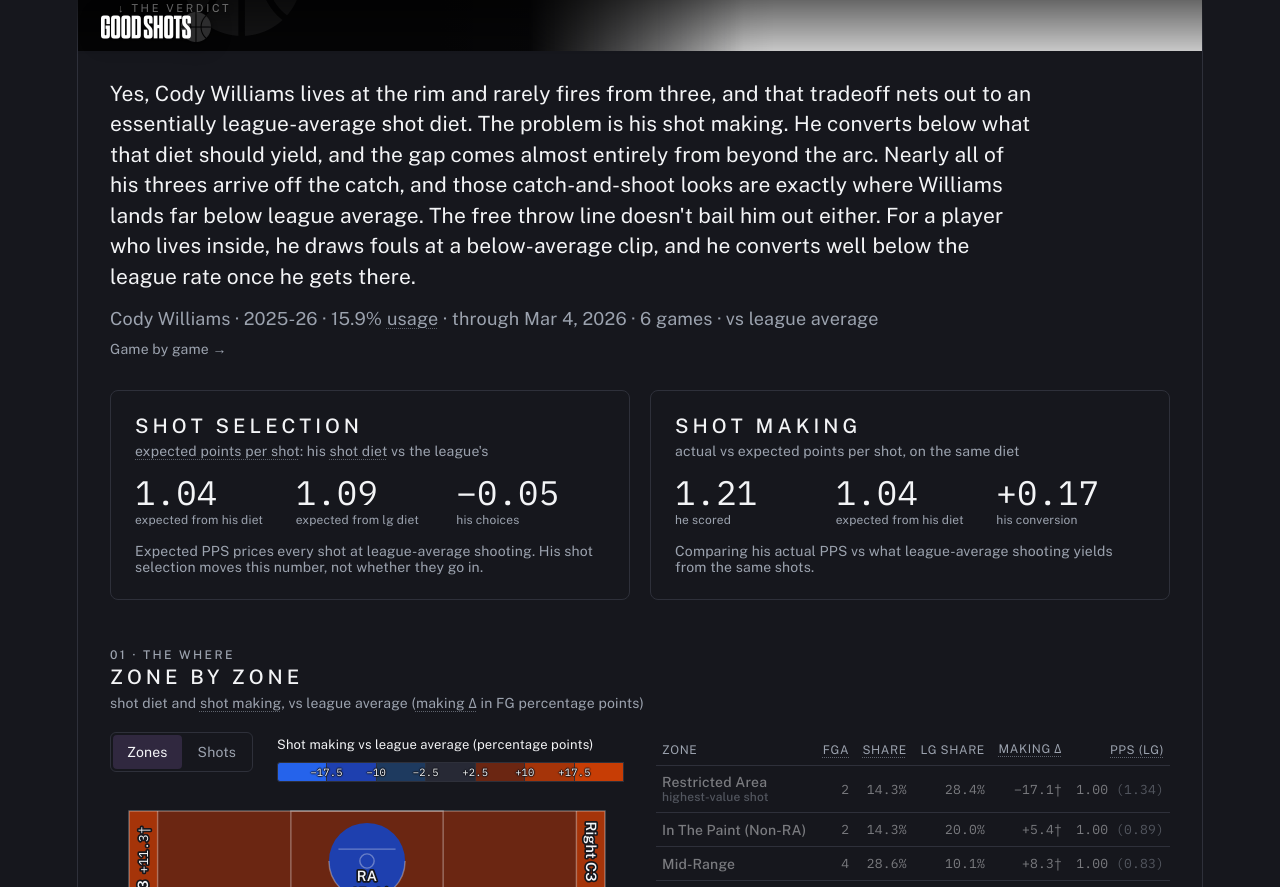
HeroPage over the golden fixture › defines jargon in place: dictionary terms open a popover (ADR-0052)
(page scrolled)
Click the button "shot diet": (358, 451) [330,443,388,459]
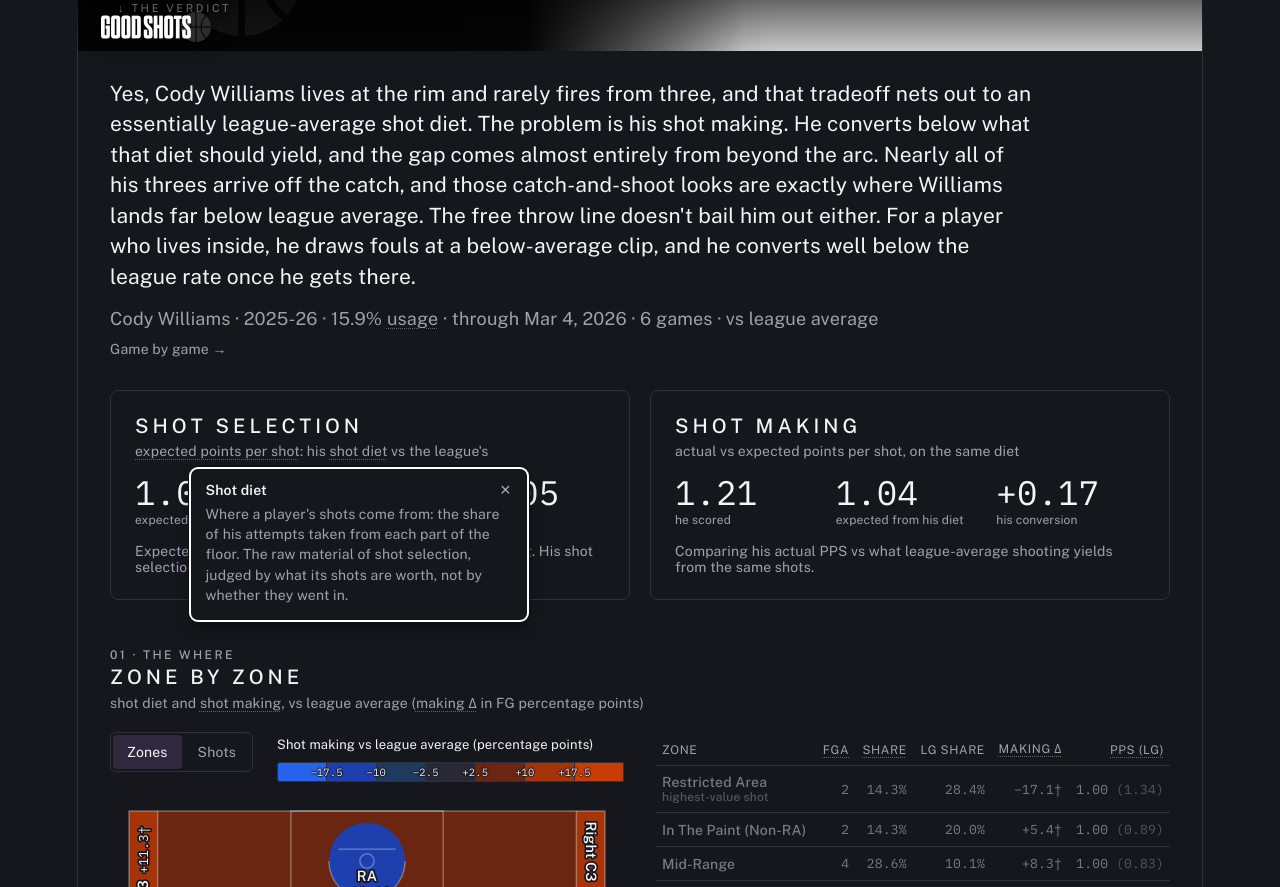
Now the dialog named "Shot diet definition" shows "The raw material of shot selection", box [206,506,500,603]
Press Escape in the dialog named "Shot diet definition", box [188,467,528,622]
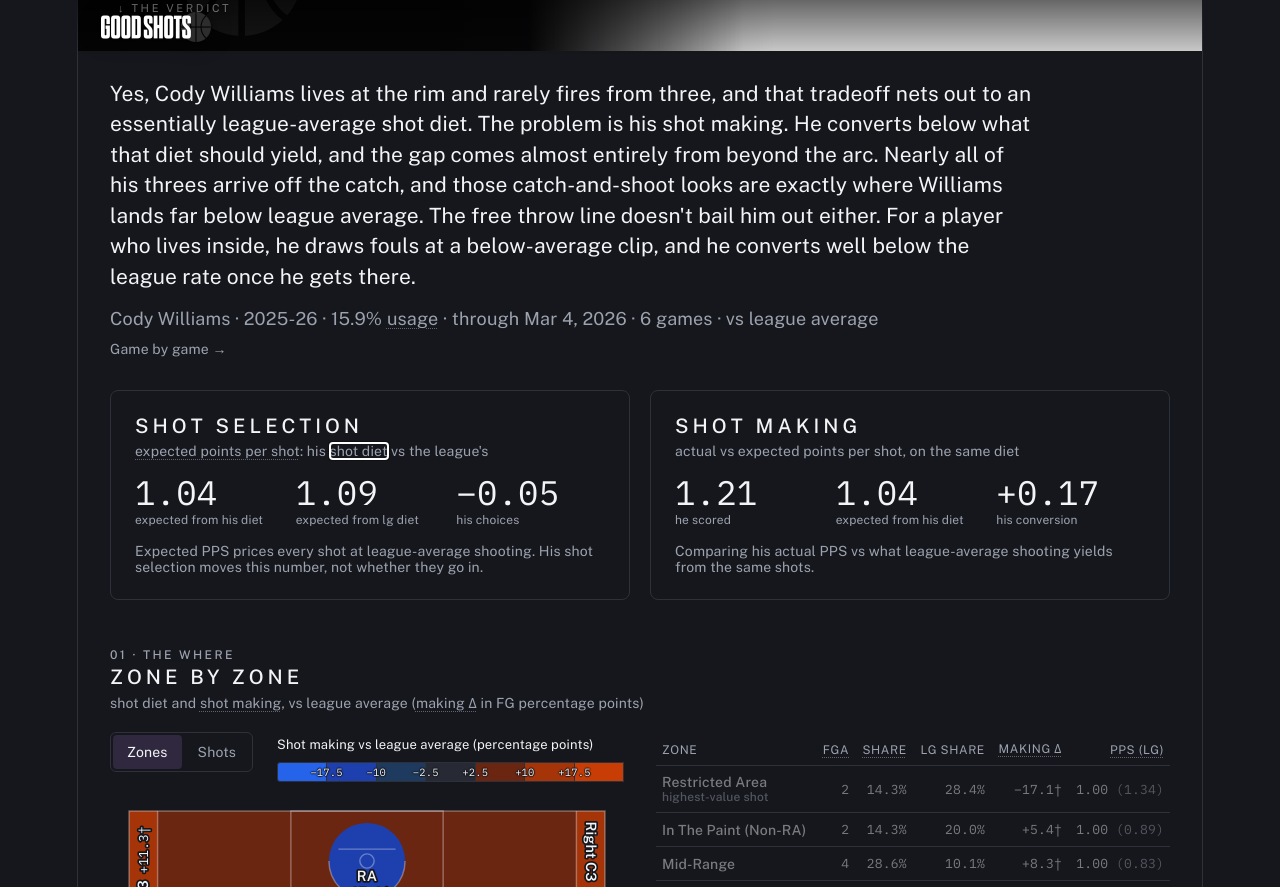
Now the dialog is gone
Click the button "Making Δ": (1030, 749) [999,740,1062,757]
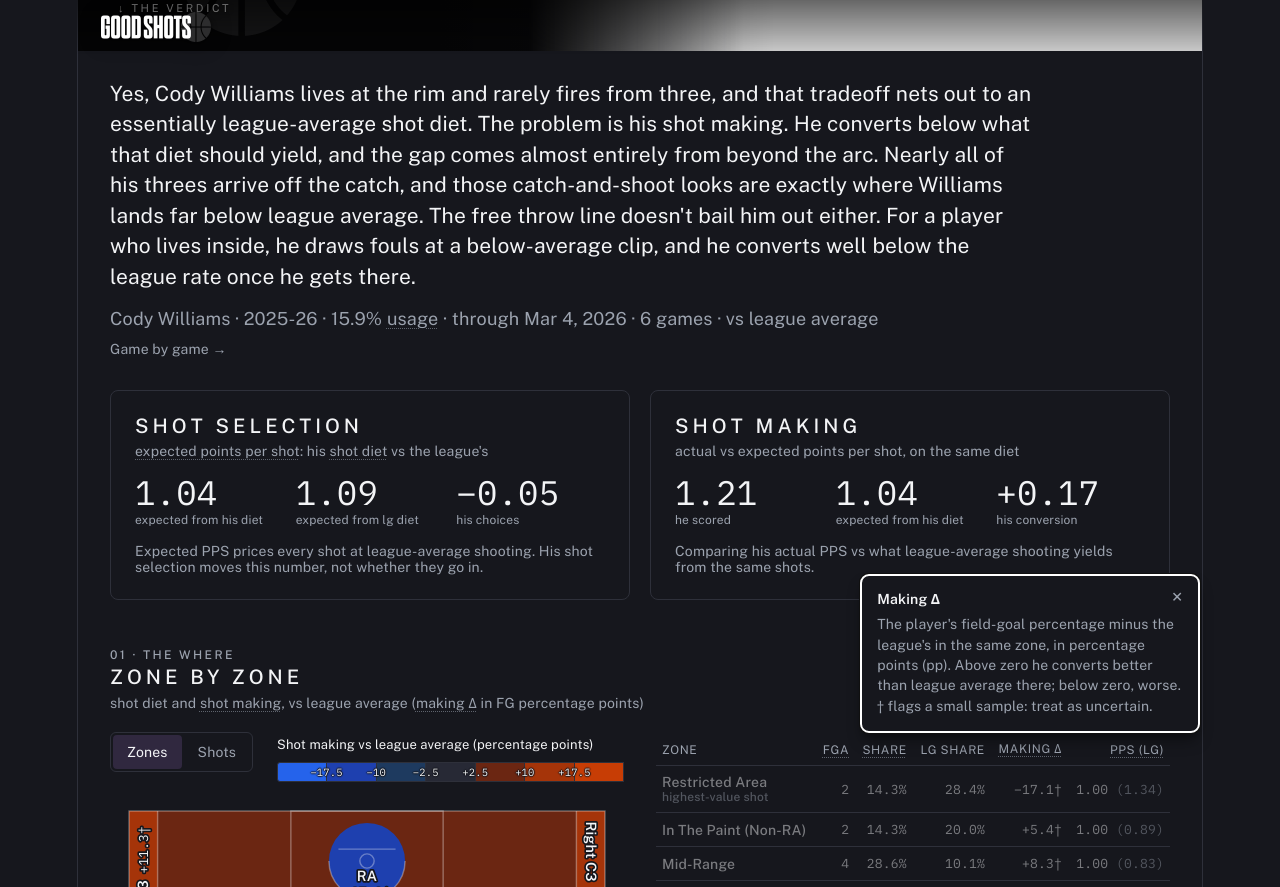
Now the dialog named "Making Δ definition" is shown, box [860,574,1200,733]
Click the button named "Close definition": (1177, 597) [1155,575,1199,619]
(page scrolled)
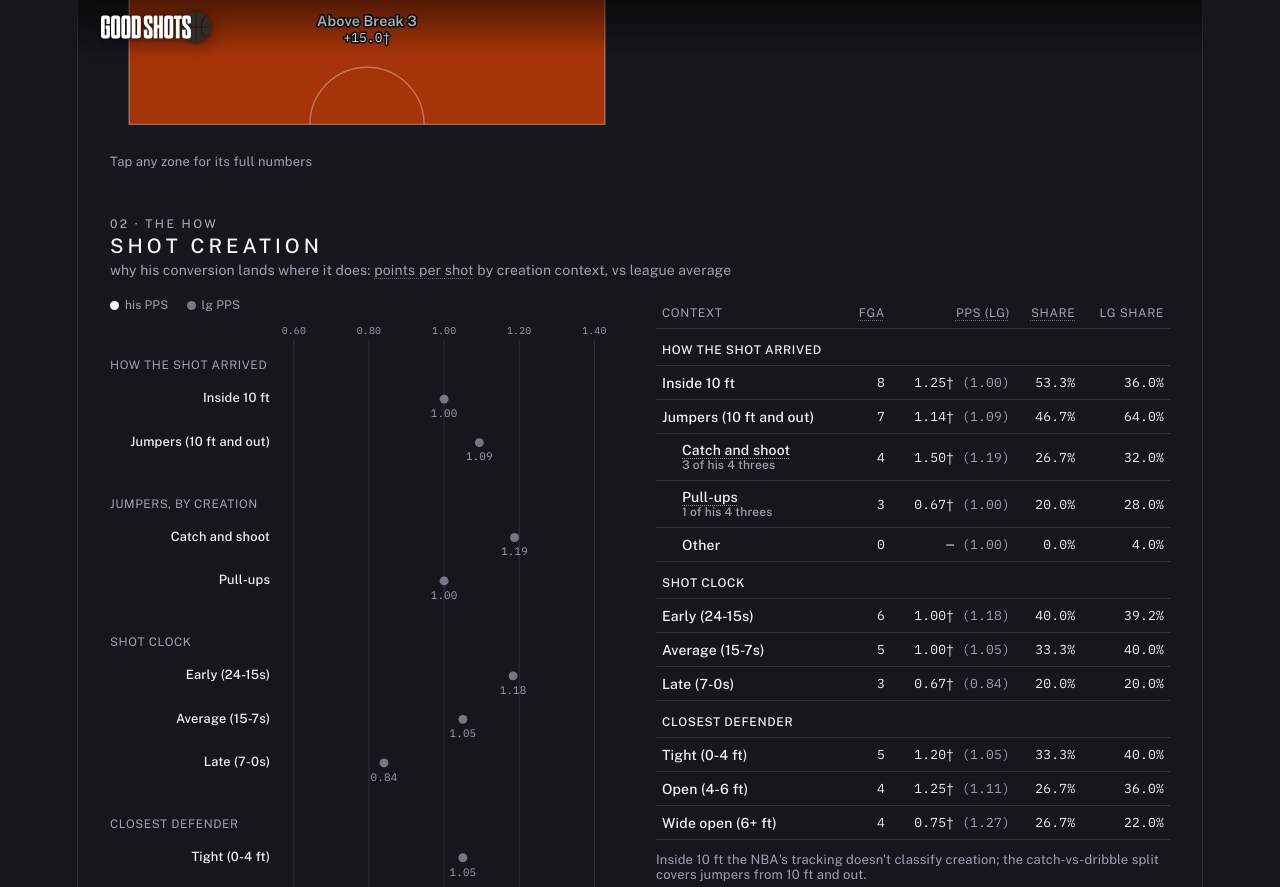
// the creation contexts a general reader won't know are terms in the table
Click the button "Catch and shoot": (736, 450) [682,442,790,458]
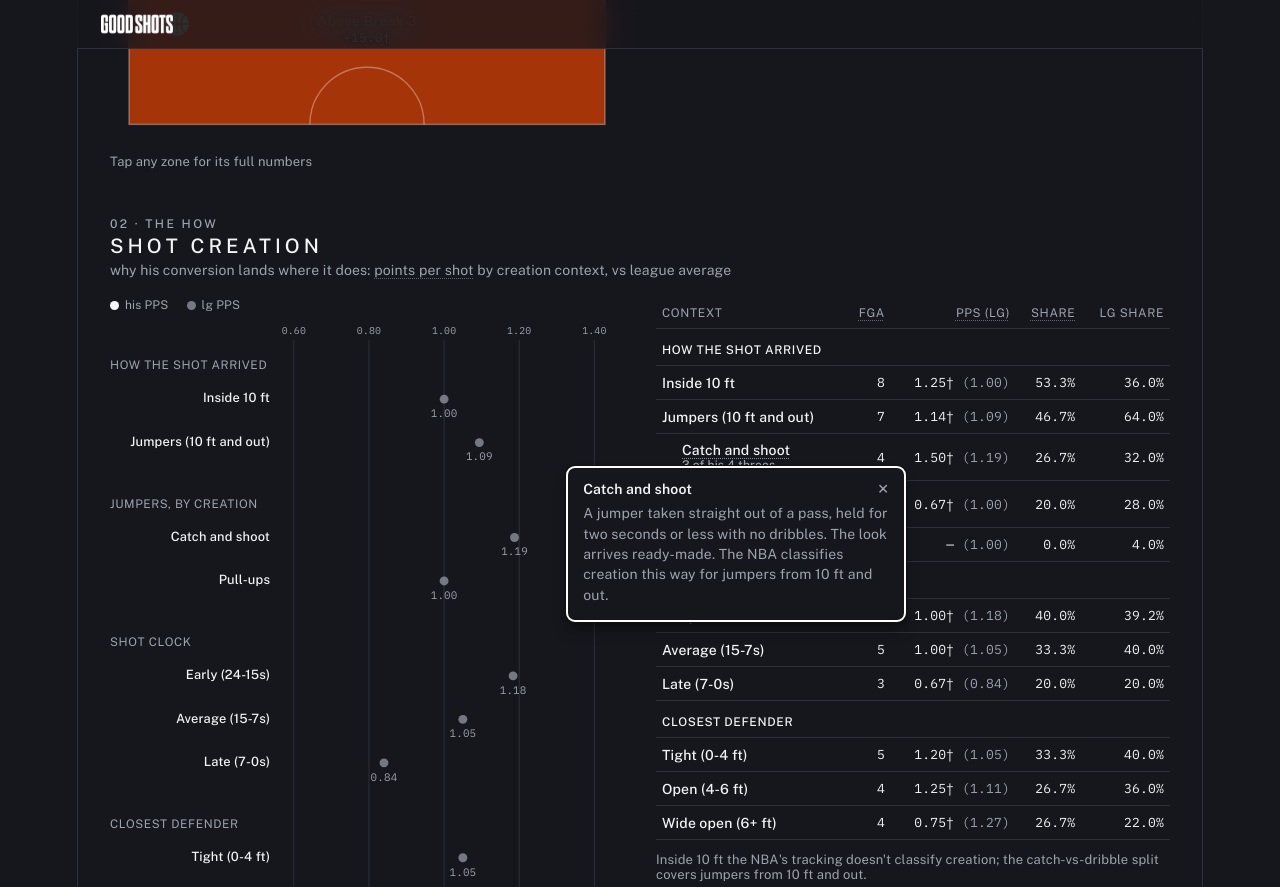
Now the dialog named "Catch and shoot definition" is shown, box [566,466,906,622]
